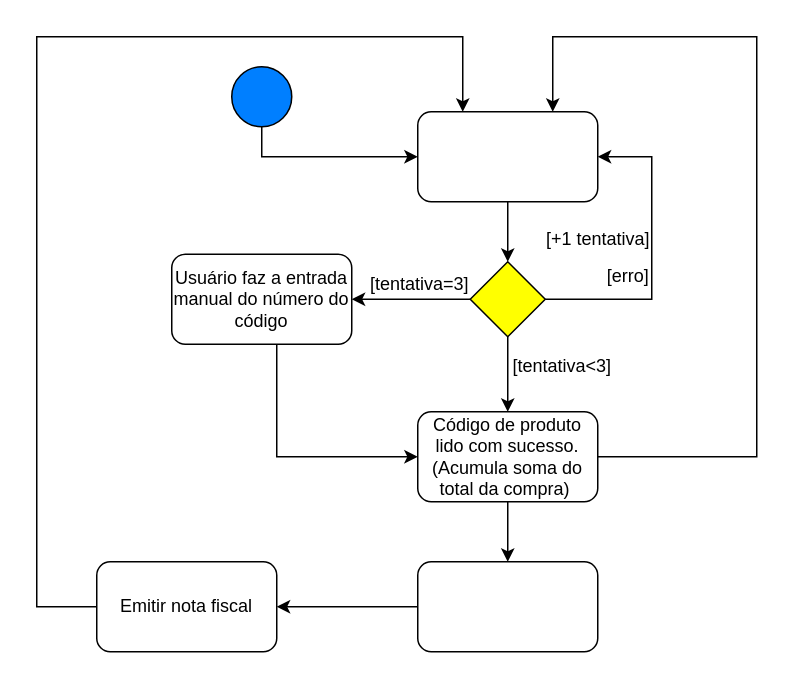
Some shapes in this 795 by 678 pixel diagram are drawn without their labels. Each missing label, with the centre of its shape:
"Finalizar" goes at (507,606).
"Usuário faz a leitura de código de um produto com leitor laser" goes at (507,156).
